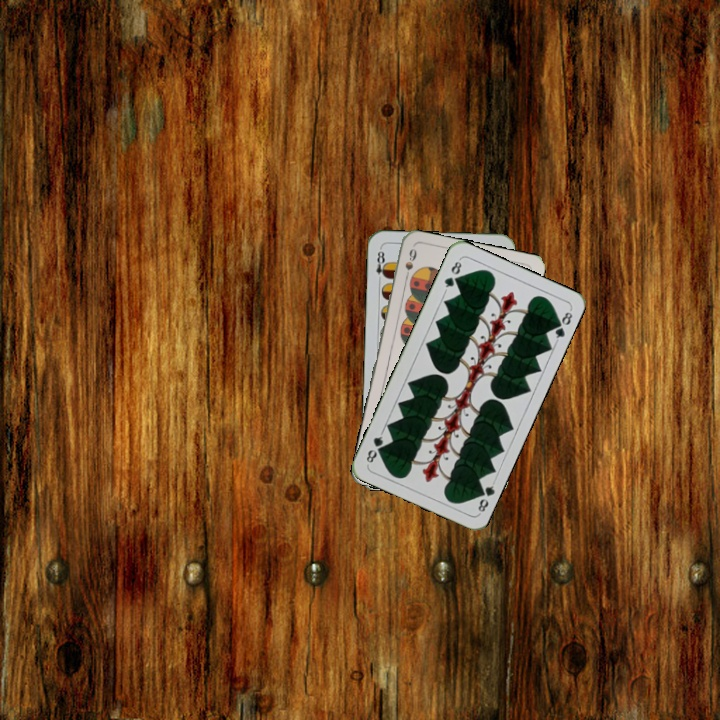E8: (372, 245, 389, 285)
G8: (472, 478, 498, 516), (440, 255, 464, 294)
S9: (401, 245, 419, 285)
